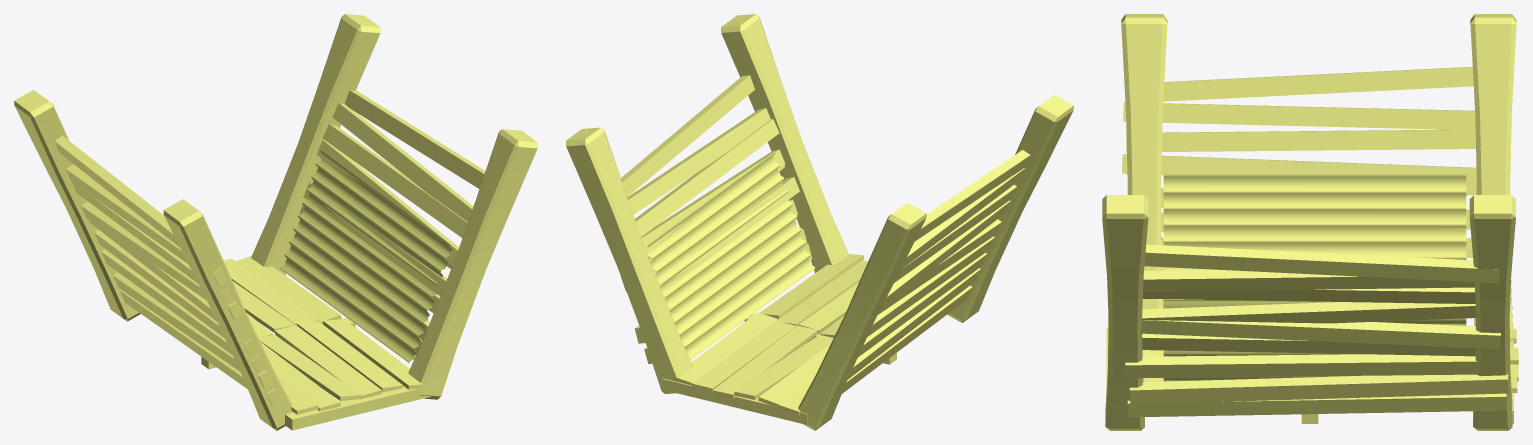
The model's file is Trench01.fbx.
The picture shows the model from 3 angles, left to right: view 1: azimuth 30°, elevation 25°; view 2: azimuth 150°, elevation 25°; view 3: azimuth 270°, elevation 25°; orthographic projection. The views are drawn at different scales.
Visible parts, largest first — view 1: Trench01; view 2: Trench01; view 3: Trench01.
Part boxes in pixels (left/top/right/bottom): Trench01: left=14, top=14, right=537, bottom=430; Trench01: left=566, top=14, right=1073, bottom=430; Trench01: left=1102, top=14, right=1518, bottom=430.
Size of the model in its own units: 374 by 246 by 330.
